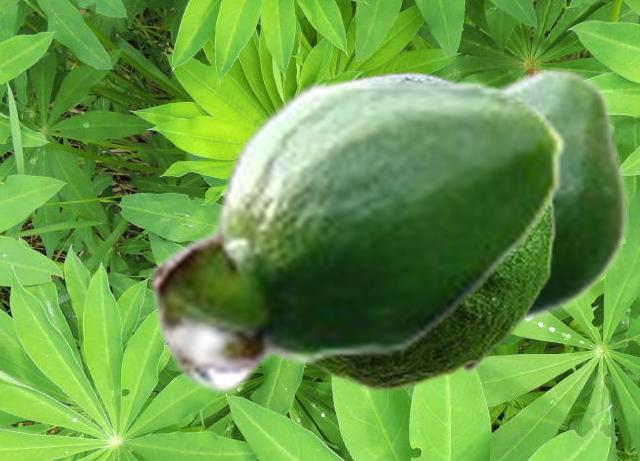guava: (149, 74, 566, 394), (306, 71, 556, 391), (459, 65, 627, 376)
